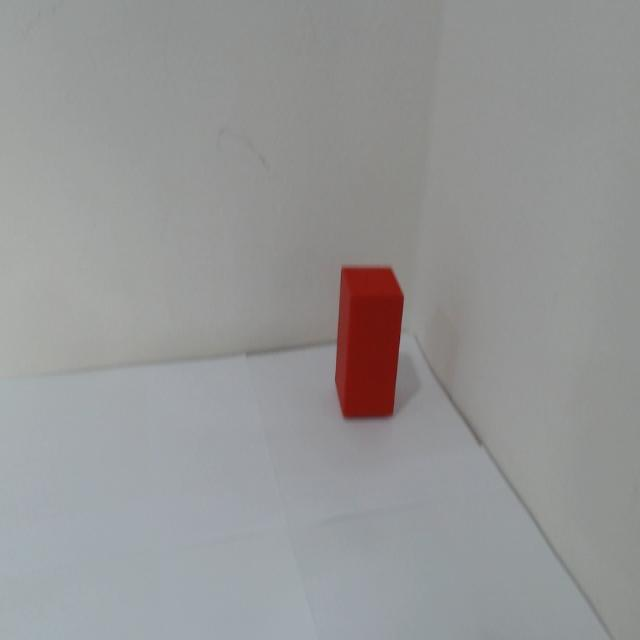cube: (319, 255, 415, 423)
